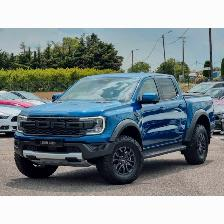NON-EV: (16, 65, 215, 186)
